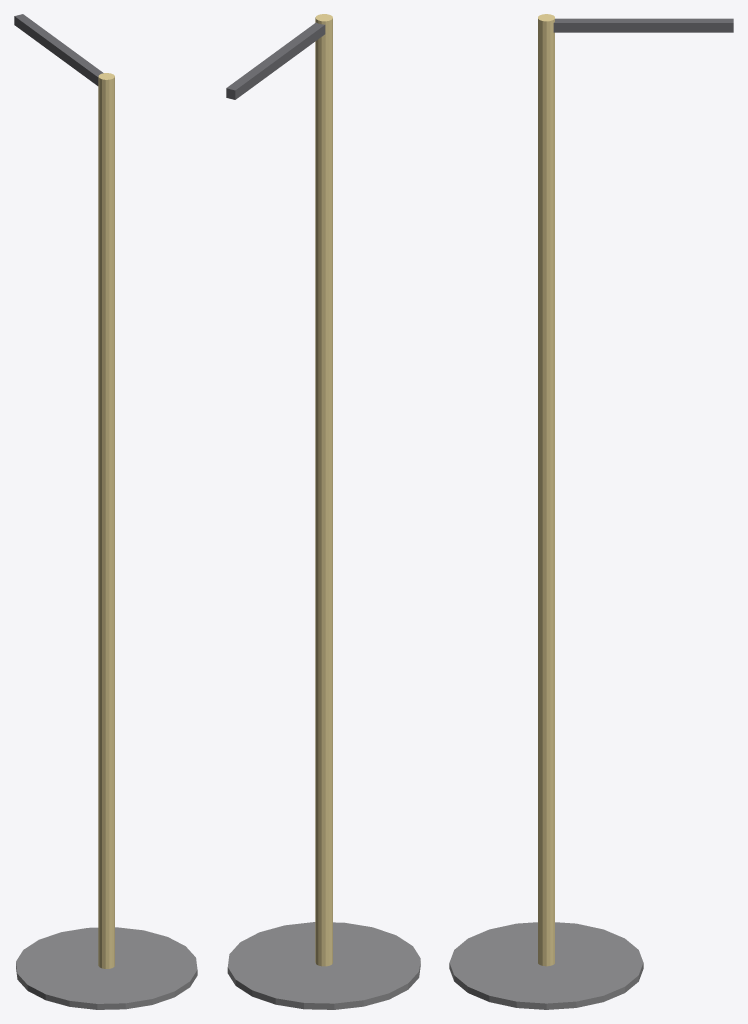
The model's file is fire_pole.glb.
3 renders of one model, left to right at view 1: azimuth 30°, elevation 25°; view 2: azimuth 150°, elevation 25°; view 3: azimuth 270°, elevation 25°, orthographic. The views are drawn at different scales.
Parts seen in each view (by area): view 1: fire_pole_pole, fire_pole_dark, fire_pole_iron; view 2: fire_pole_pole, fire_pole_dark, fire_pole_iron; view 3: fire_pole_pole, fire_pole_dark, fire_pole_iron.
Part boxes in pixels (box(x1,y1,x2,y2)): fire_pole_pole: box(98, 73, 114, 968); fire_pole_dark: box(16, 927, 197, 1009); fire_pole_iron: box(14, 14, 103, 85); fire_pole_pole: box(315, 14, 332, 966); fire_pole_dark: box(227, 922, 420, 1009); fire_pole_iron: box(226, 22, 325, 99); fire_pole_pole: box(538, 14, 554, 966); fire_pole_dark: box(449, 922, 643, 1009); fire_pole_iron: box(553, 18, 733, 32).
Bounding box in the file's own units: 1.1 × 5.95 × 1.61.
